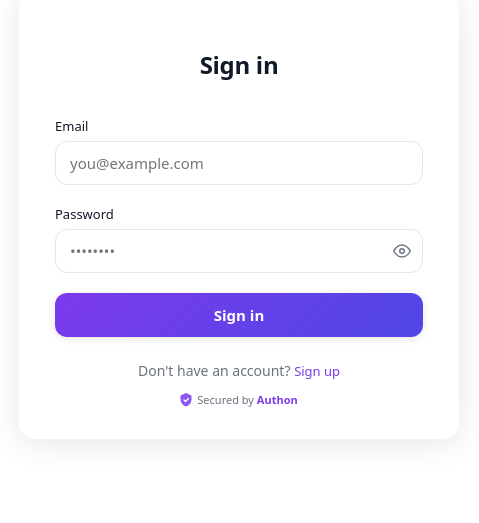
Scenario: SignIn › shows ordinary sign-in failures without entering MFA
Type "person@example.com" into the field labelled "Email" at (239, 163), box [55,141,423,185]
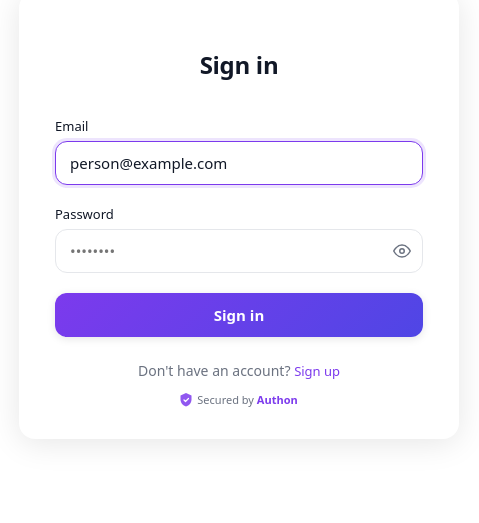
Type "password123" into the password field labelled "Password" at (239, 251), box [55,229,423,273]
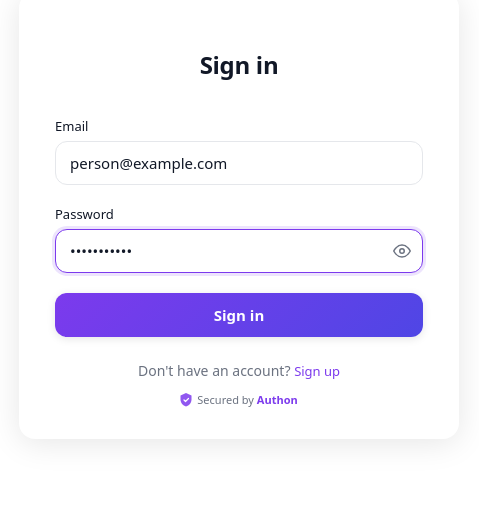
Click the button "Sign in" at (239, 315), box [55,293,423,337]
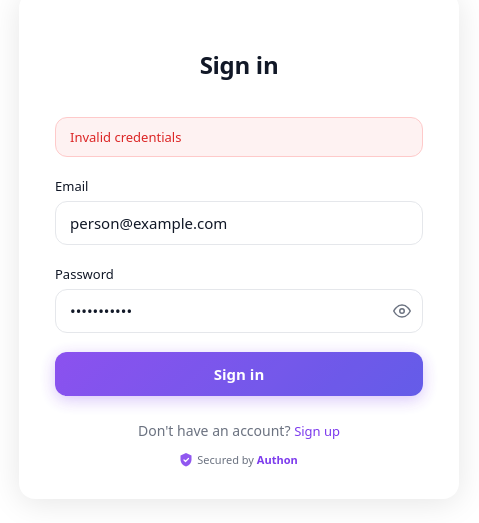
Expected: the heading "Sign in" is shown, [200,48,278,81]
Result: the message reads "Invalid credentials" at [70,128,181,146]
